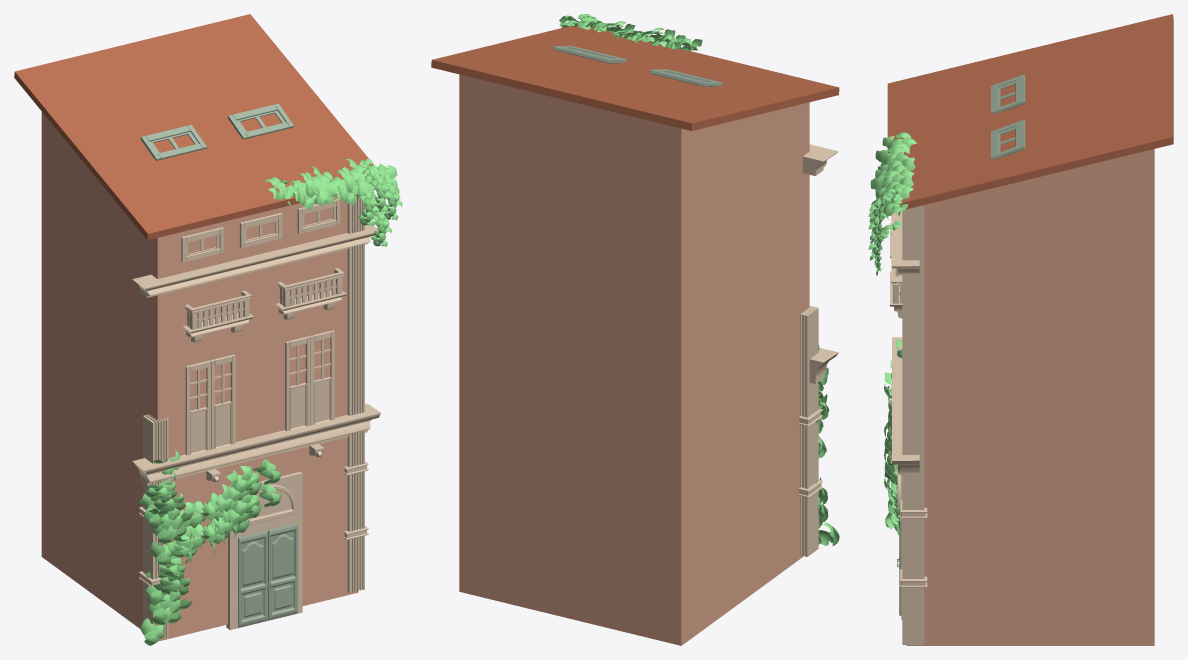
Rendered from DowntownHouse3.fbx.
3 views of the same model, side by side, from view 1: azimuth 30°, elevation 25°; view 2: azimuth 150°, elevation 25°; view 3: azimuth 270°, elevation 25° (orthographic). The views are drawn at different scales.
Visible parts, largest first — view 1: pCube304; view 2: pCube304; view 3: pCube304.
Boxes of the visible parts, left/top/right/bottom form: pCube304: left=14, top=14, right=402, bottom=645; pCube304: left=431, top=14, right=839, bottom=645; pCube304: left=868, top=14, right=1173, bottom=645.
Size of the model in its own units: 27.75 by 51.18 by 27.16.
